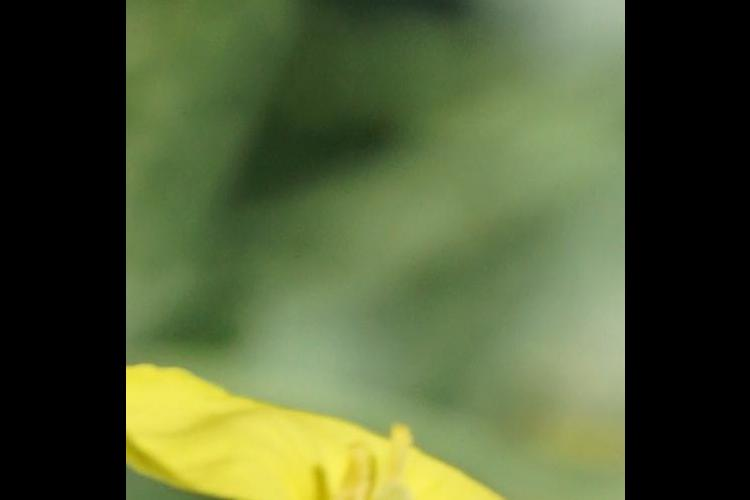yellow: (165, 391, 519, 500)
